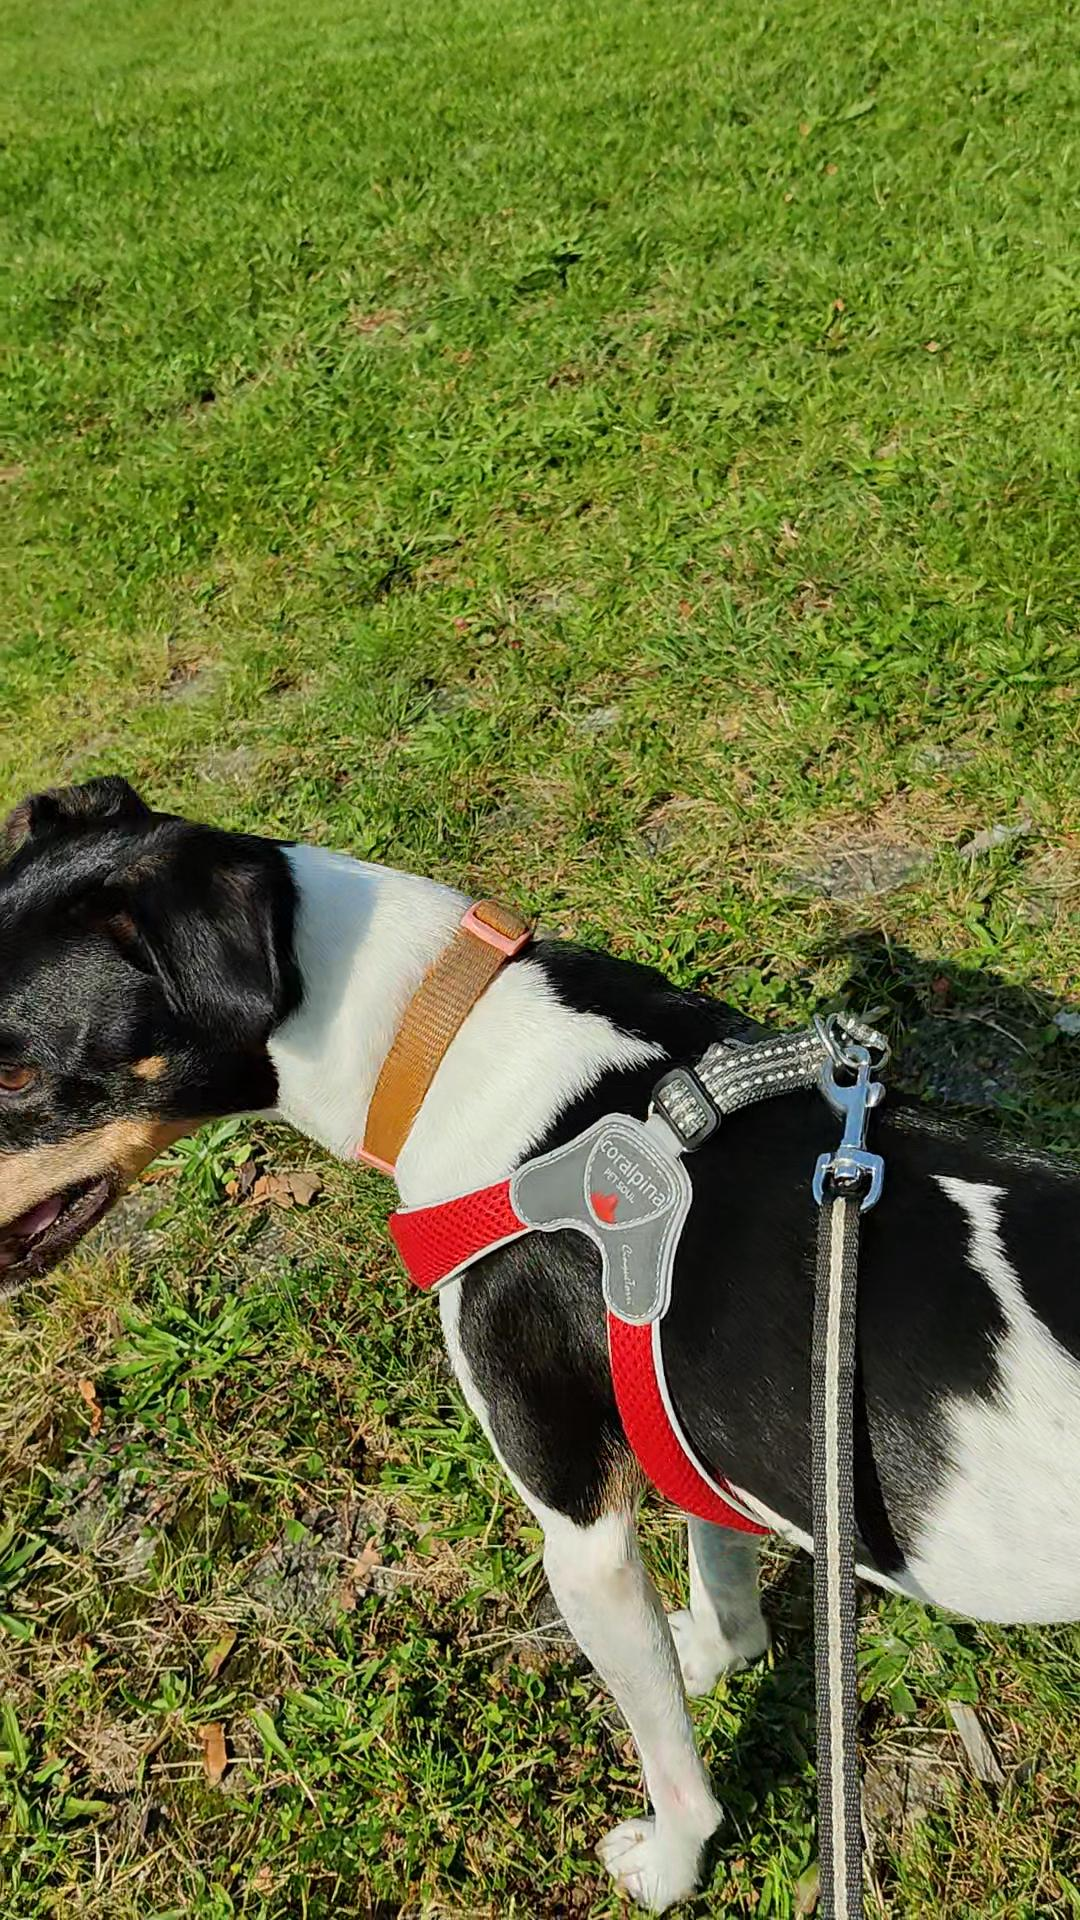Dog: (0, 744, 1079, 1919)
